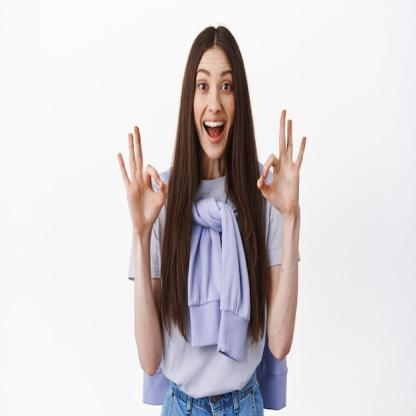ok: (116, 122, 172, 240), (256, 106, 310, 220)
